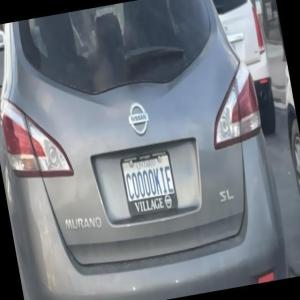Plate: (118, 149, 179, 217)
